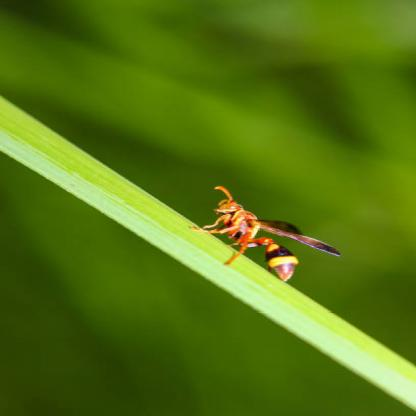sawfly: (194, 174, 343, 290)
